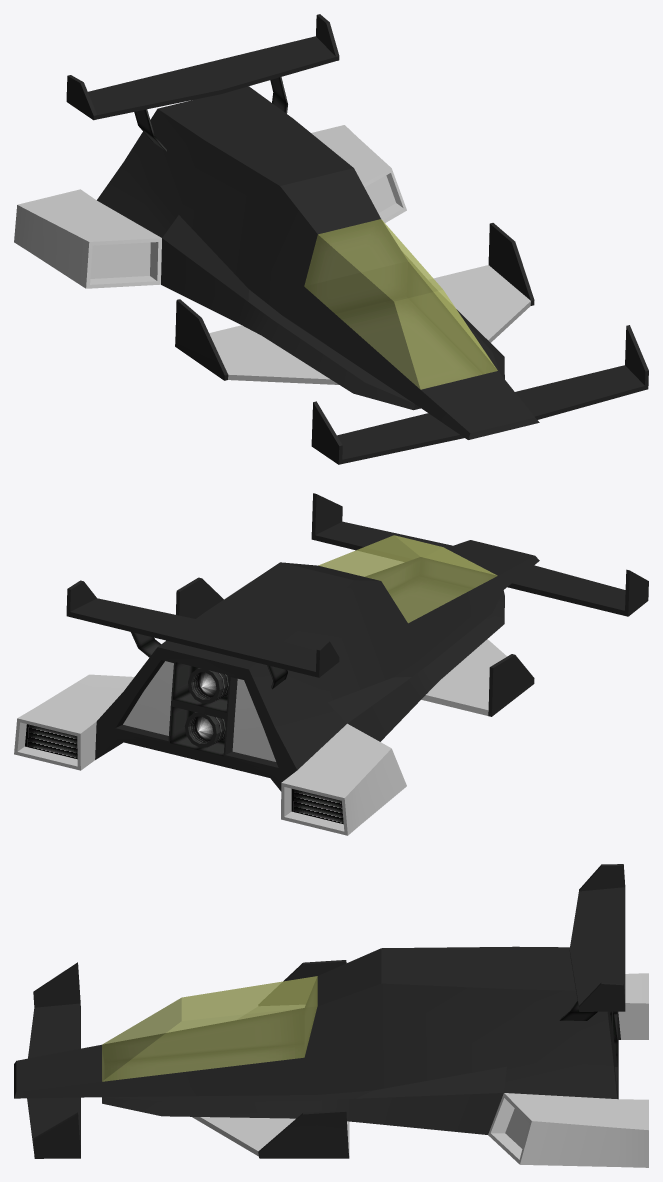
The model's file is SStar.fbx.
3 views of the same model, one above another, from view 1: azimuth 30°, elevation 25°; view 2: azimuth 150°, elevation 25°; view 3: azimuth 270°, elevation 25° (orthographic).
Visible parts, largest first — view 1: ShootingStar; view 2: ShootingStar; view 3: ShootingStar.
Boxes of the visible parts, x1,y1,x2,y2 form: ShootingStar: [14, 14, 648, 464]; ShootingStar: [14, 493, 648, 835]; ShootingStar: [14, 864, 648, 1167].
Bounding box in the file's own units: 250 × 119 × 420.
